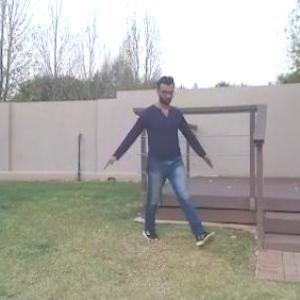land: (102, 70, 214, 263)
